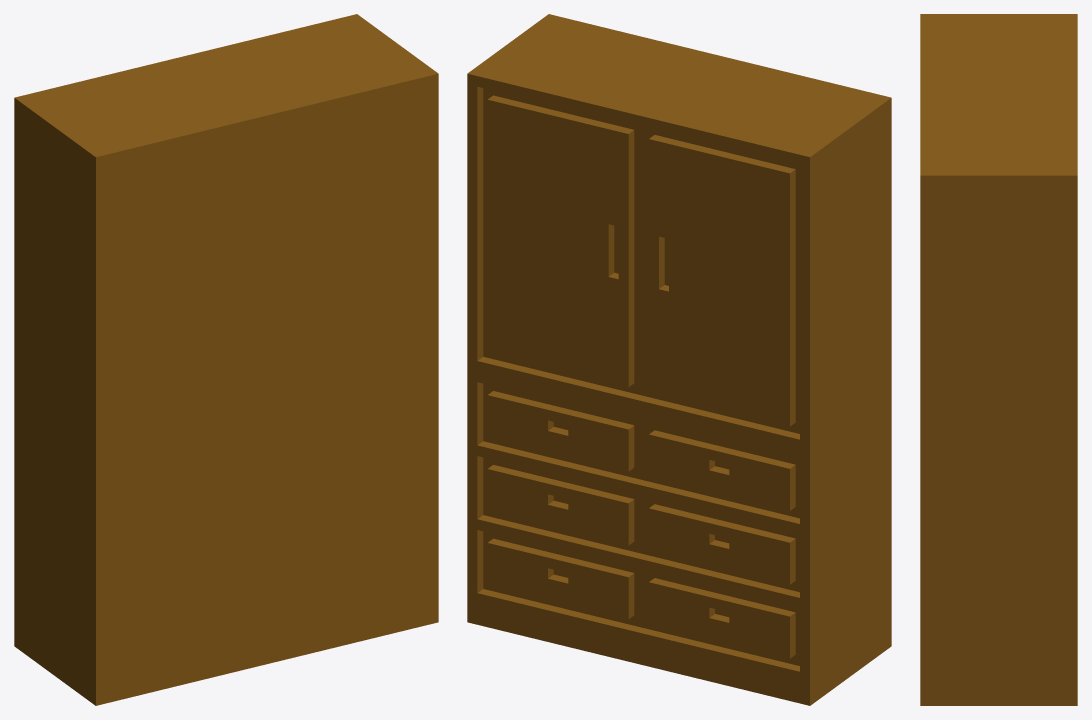
File: Cabinet-0-Cabinet.obj
3 renders of one model, left to right at view 1: azimuth 30°, elevation 25°; view 2: azimuth 150°, elevation 25°; view 3: azimuth 270°, elevation 25°, orthographic. The views are drawn at different scales.
Visible parts, largest first — view 1: Cabinet; view 2: Cabinet; view 3: Cabinet.
Part boxes in pixels (x1,y1,x2,y2): Cabinet: (14,14,438,705); Cabinet: (467,14,891,705); Cabinet: (920,14,1077,705).
Size of the model in its own units: 3.4 by 5.2 by 1.4.
1 material, 1 textured.
